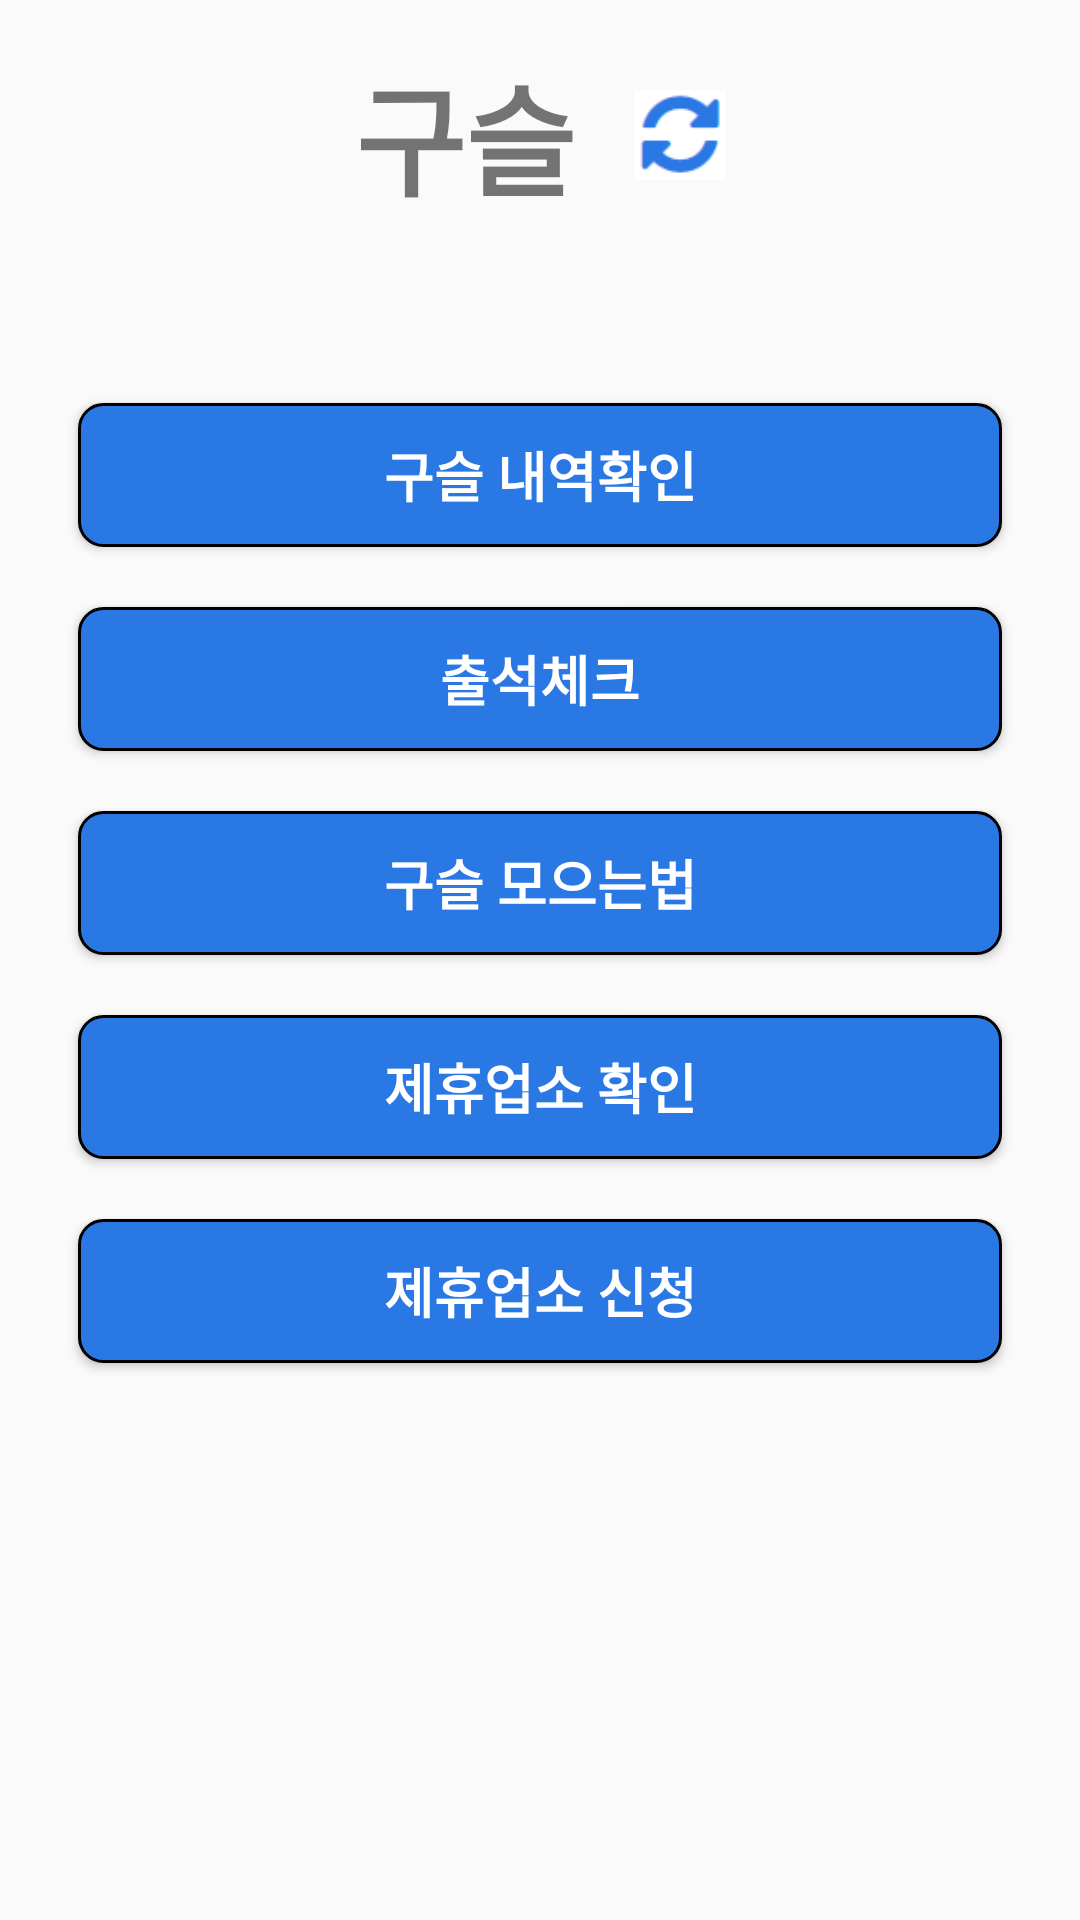

Icons on this 1080px×1920px Android screen, each with the point to tap as point (x, y):
refresh: point (680, 134)
